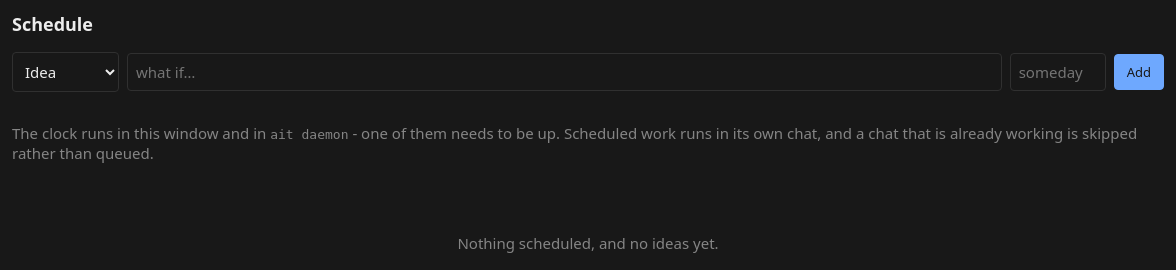
Scenario: refuses scheduled work with no chat and no prompt, rather than guessing either
Select "Run" in the dropdown named "kind" at coordinates (66, 72), box [12,52,119,92]
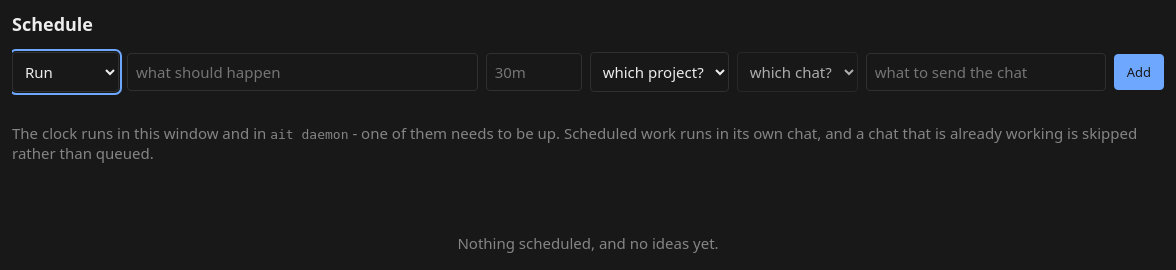
Type "nightly build" into the field named "title" at coordinates (302, 72), box [127,53,478,91]
Type "2h" into the field named "when" at coordinates (534, 72), box [486,53,582,91]
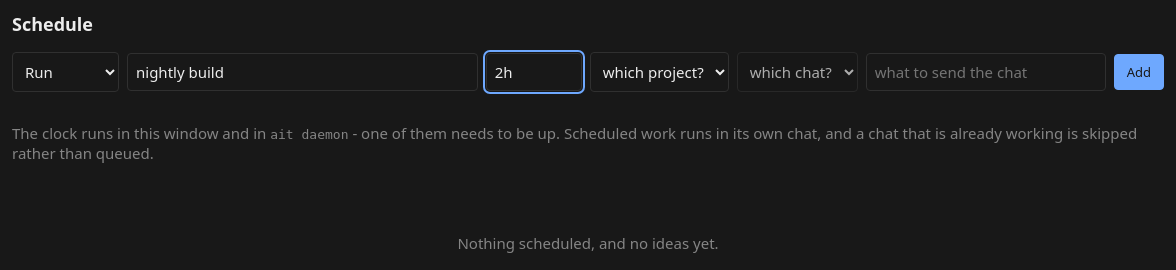
Select "Widget" in the dropdown named "project" at coordinates (659, 72), box [590,52,729,92]
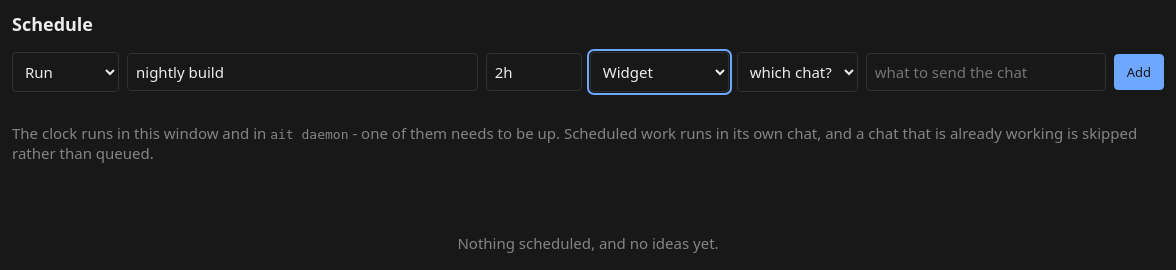
Click the button "Add" at coordinates (1139, 72), box [1114,54,1164,90]
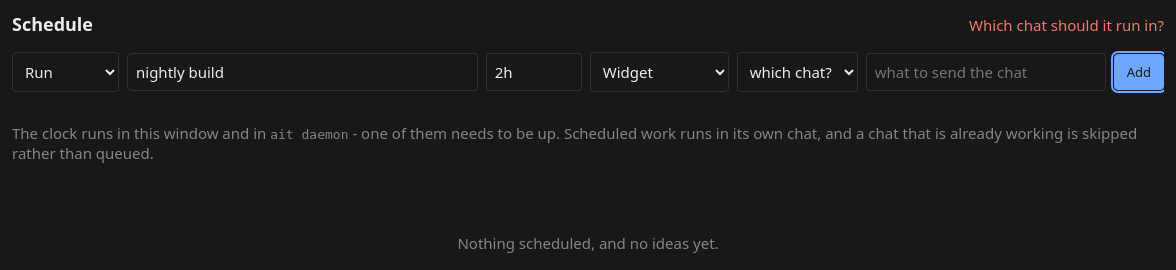
expect the text "Which chat should it run in?" is shown: met, box [969,15,1164,35]
Select "Flaky tests" in the dropdown named "chat" at coordinates (797, 72), box [737,52,858,92]
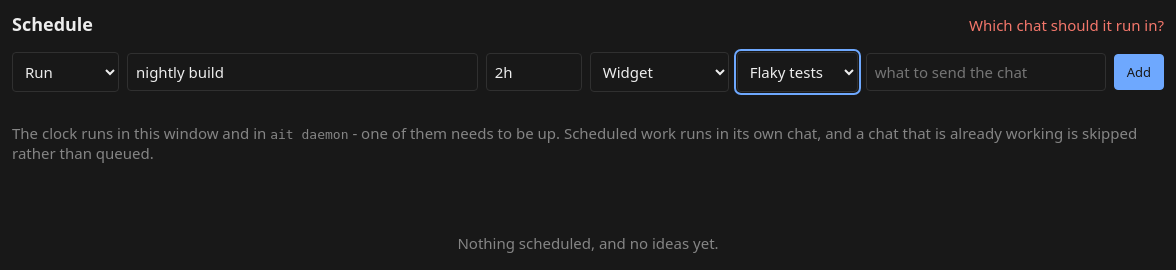
Click the button "Add" at coordinates (1139, 72), box [1114,54,1164,90]
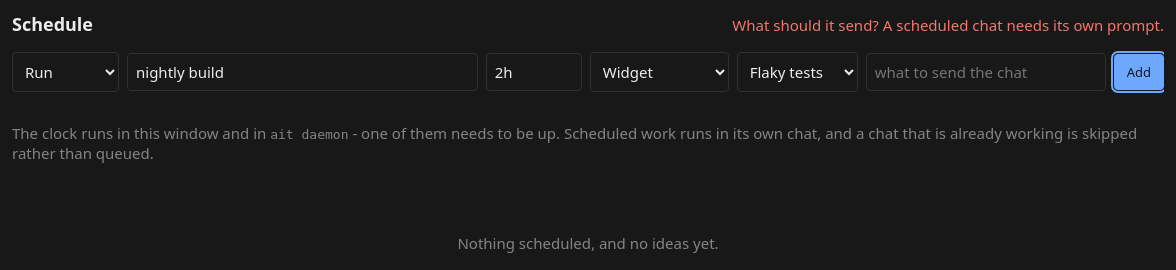
expect the text "What should it send? A scheduled chat needs its own prompt." is shown: met, box [732,15,1164,35]
